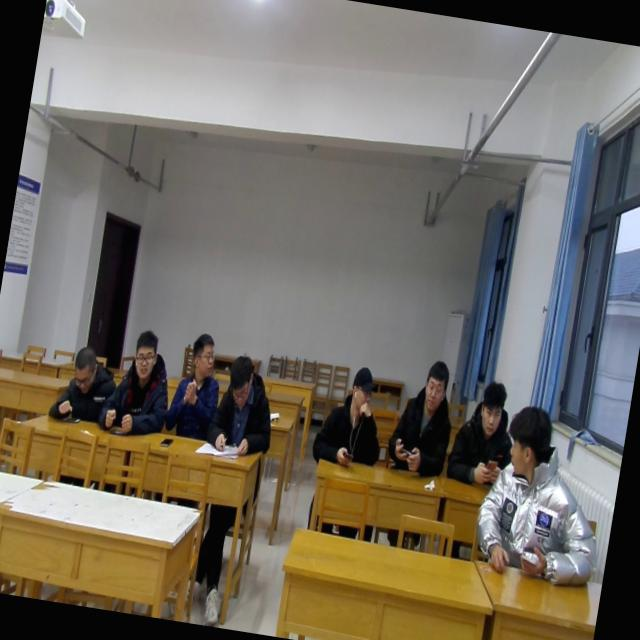bow: (47, 340, 123, 432)
down: (472, 375, 514, 441), (220, 352, 262, 414), (66, 340, 102, 396)
lookup: (419, 353, 455, 417), (125, 325, 163, 381)
sit: (468, 401, 621, 594), (382, 352, 464, 481), (96, 324, 180, 444), (310, 359, 395, 473), (445, 376, 525, 492), (206, 351, 284, 462), (162, 328, 231, 439)
